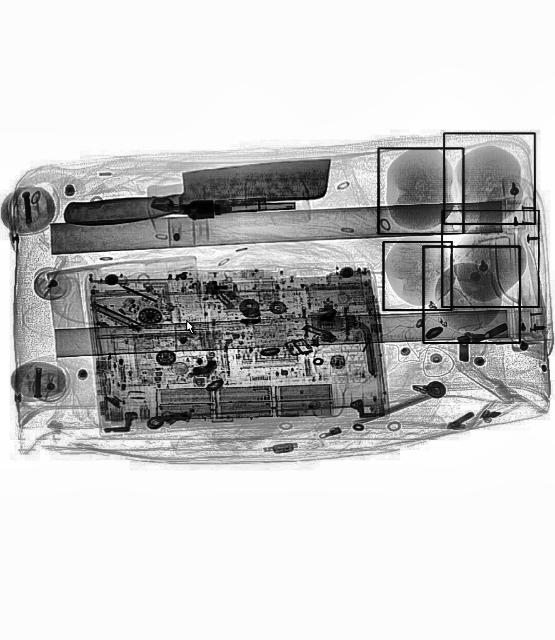Gun: (152, 185, 293, 221)
Knife: (60, 157, 332, 227)
